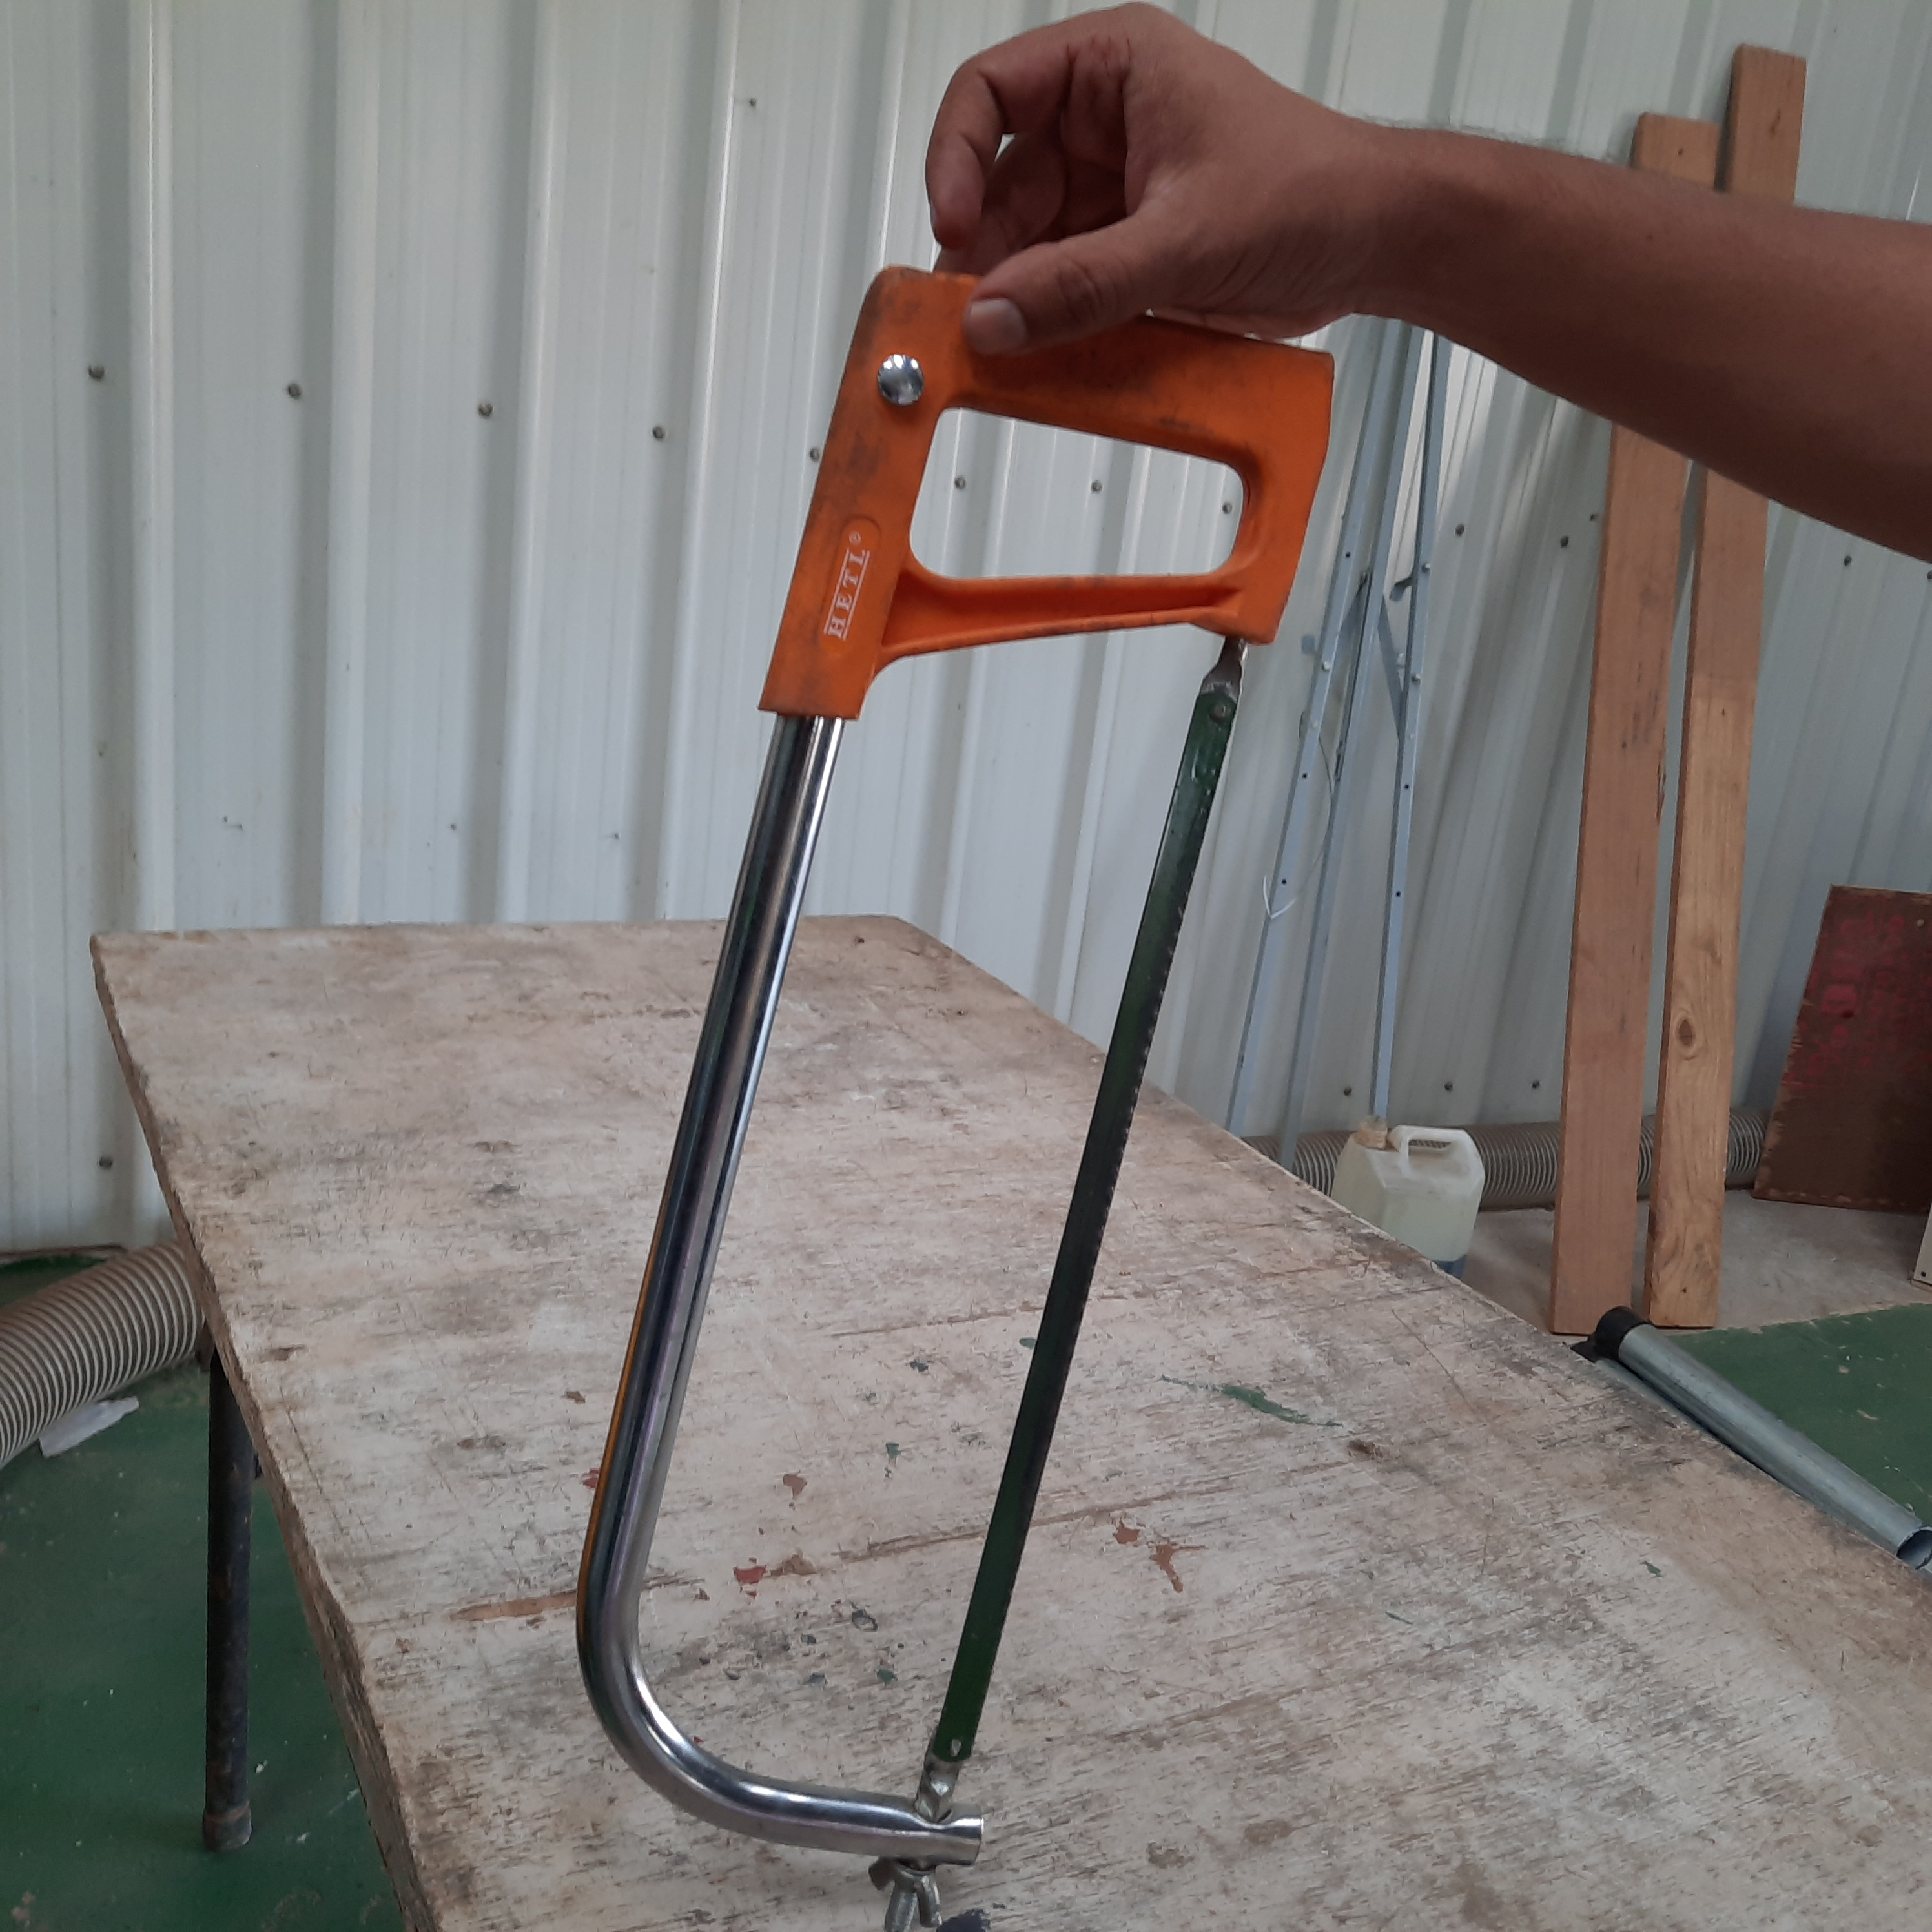Hexaframe: (561, 205, 1396, 1932)
